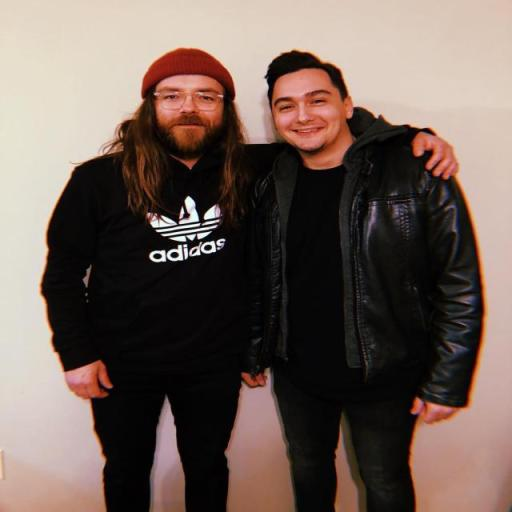Adidas: (144, 192, 229, 264)
